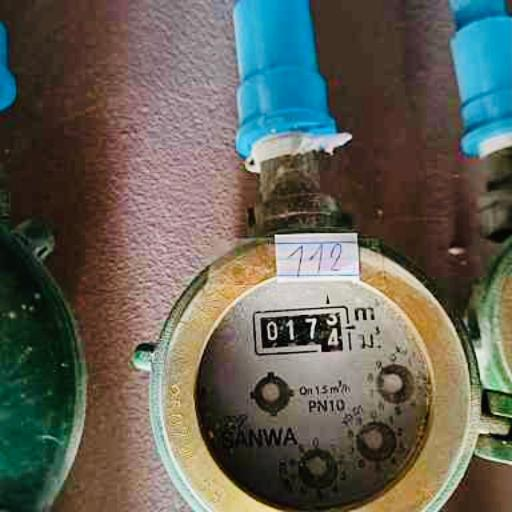0: (260, 316, 284, 348)
1: (282, 316, 302, 347)
4: (319, 312, 344, 352)
7: (301, 315, 322, 346)
border_water_meter_number: (252, 306, 352, 357)
